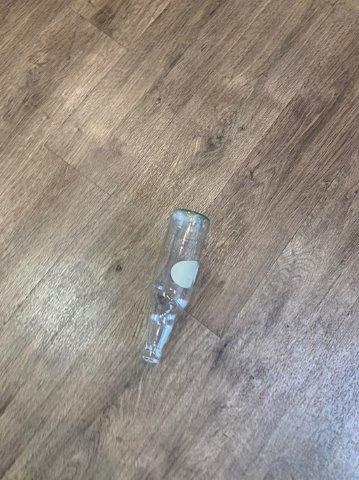botolkaca: (141, 209, 210, 364)
